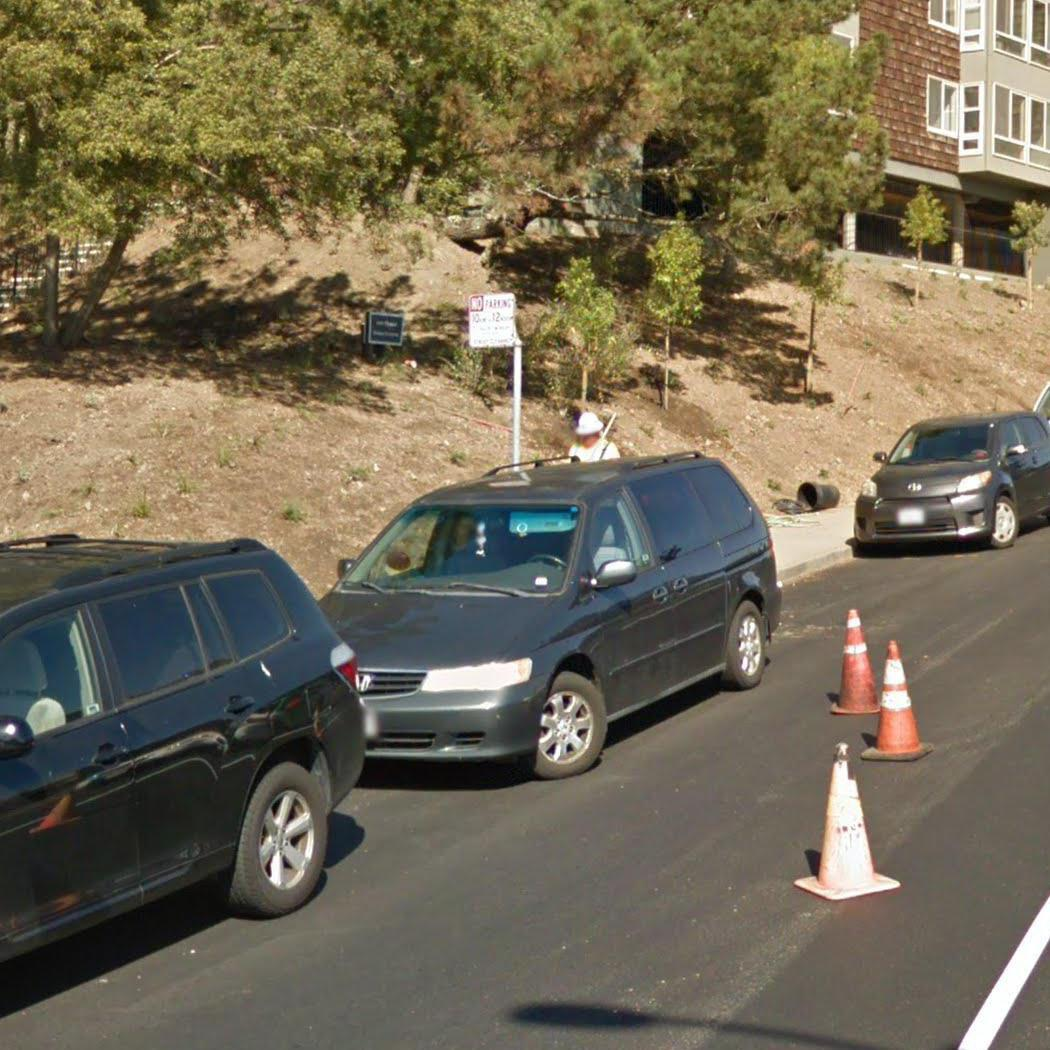No Parking: (466, 291, 519, 350)
